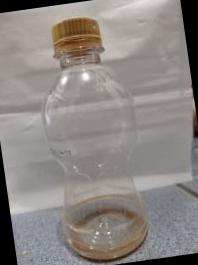Plastik: (44, 18, 148, 260)
